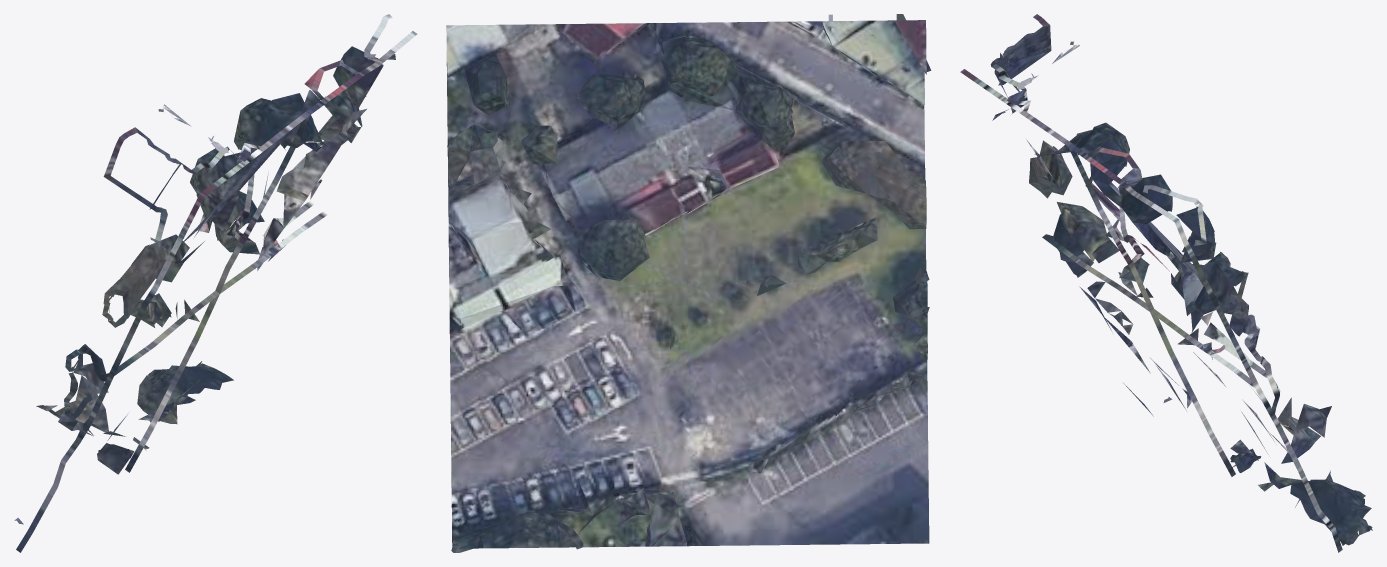
The picture shows the model from 3 angles, left to right: view 1: azimuth 30°, elevation 25°; view 2: azimuth 150°, elevation 25°; view 3: azimuth 270°, elevation 25°; orthographic projection. The views are drawn at different scales.
Size of the model in its own units: 76.83 by 76.16 by 69.15.
2 materials, 2 textured.
